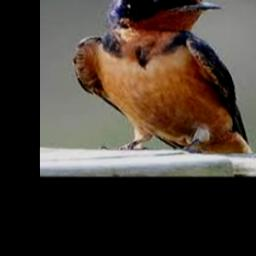Swallow: (72, 0, 252, 154)
